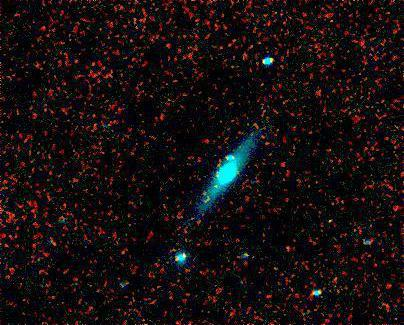star: (218, 138, 248, 168)
